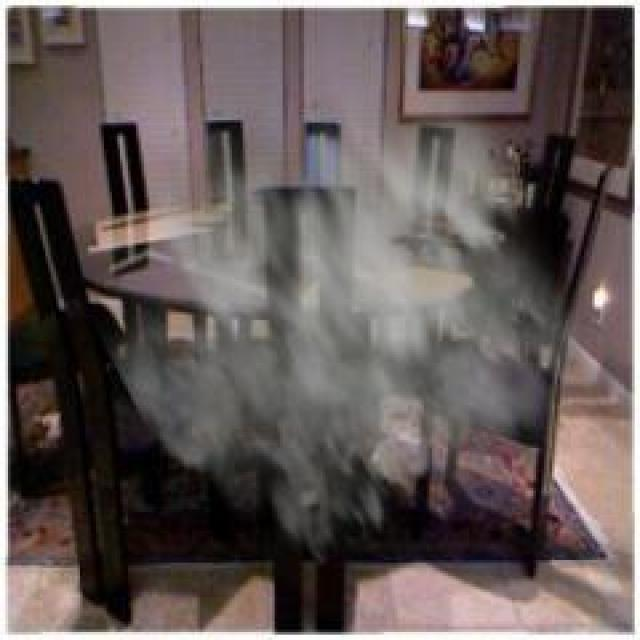Smoke: (82, 18, 608, 570)
